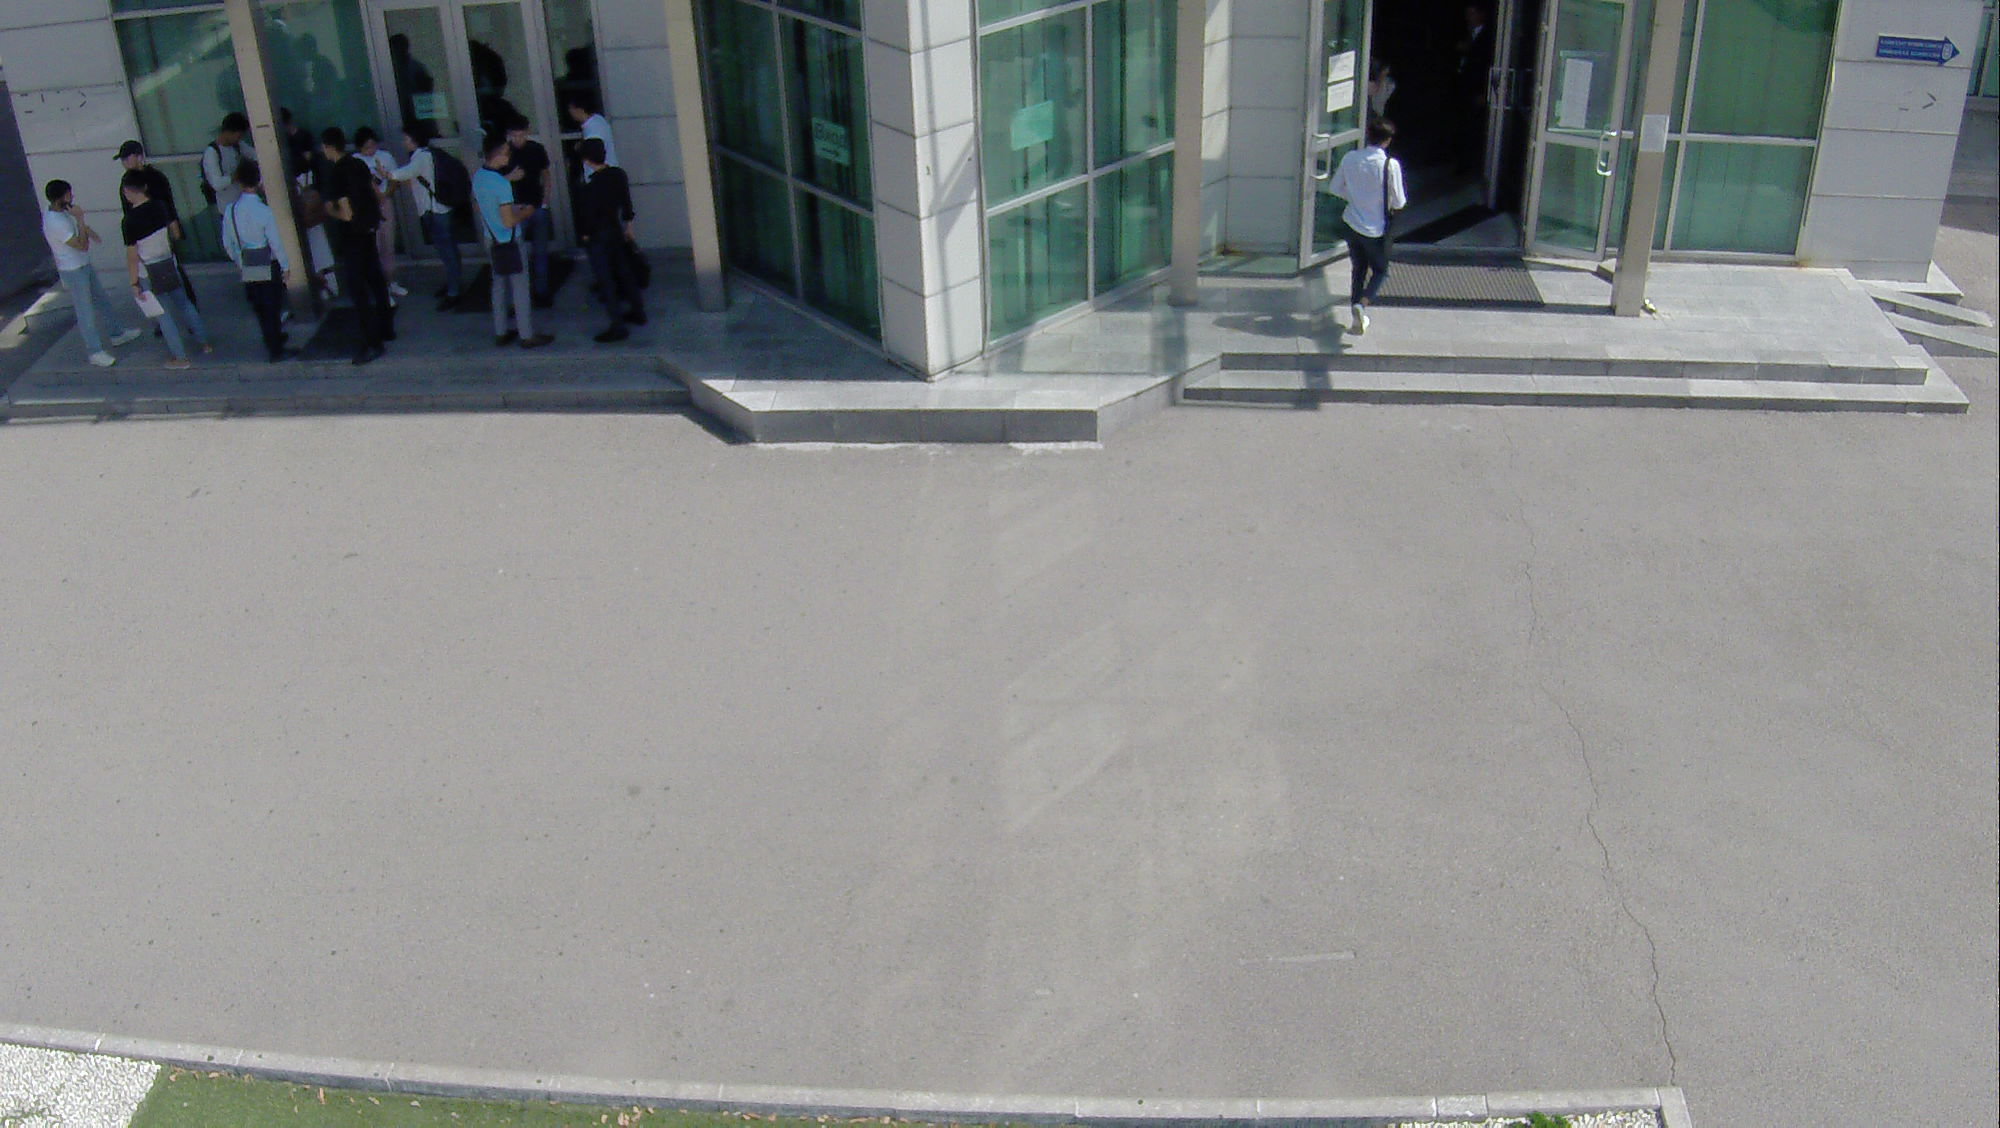person: (568, 131, 654, 361), (316, 135, 398, 368), (466, 134, 550, 355), (1330, 110, 1406, 347), (120, 176, 209, 374), (40, 177, 124, 369), (227, 162, 304, 366), (394, 125, 464, 312), (356, 113, 401, 311), (195, 107, 255, 188), (504, 120, 548, 226), (568, 105, 617, 174)
